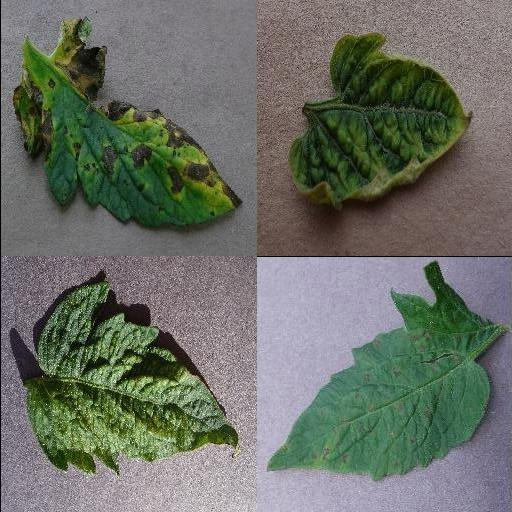Early Blight: (11, 18, 241, 228)
Septoria: (264, 260, 490, 478)
Spider Mites: (23, 283, 239, 473)
Yellow Leaf Curl Virus: (287, 32, 473, 208)
